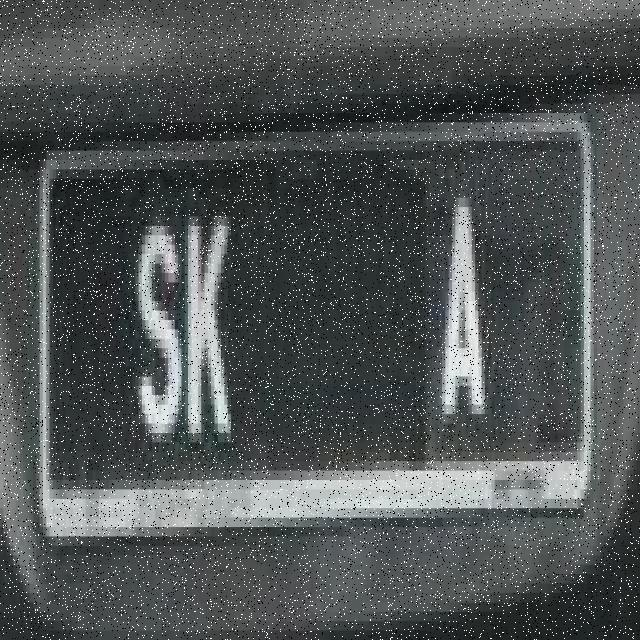licenseplate: (36, 109, 594, 551)
